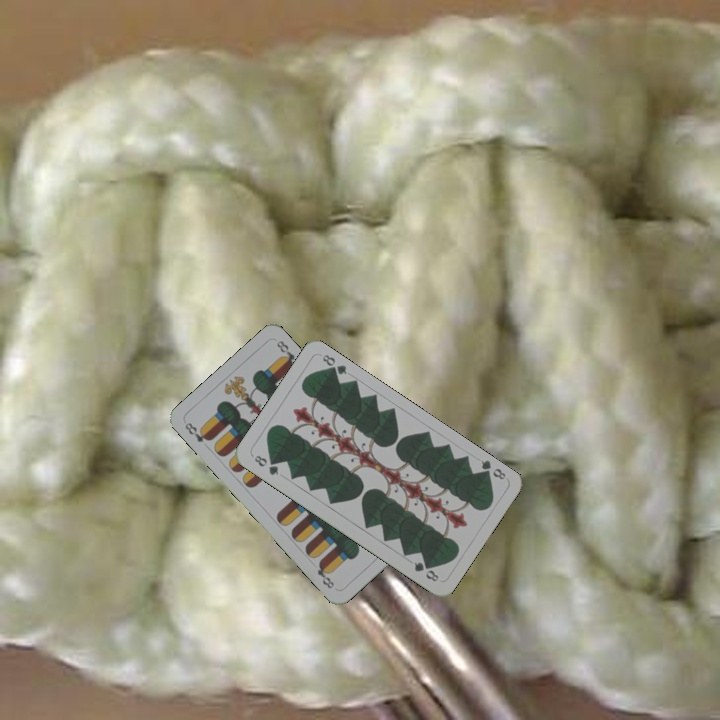E8: (181, 418, 214, 445)
G8: (250, 451, 281, 478), (476, 456, 508, 482)
